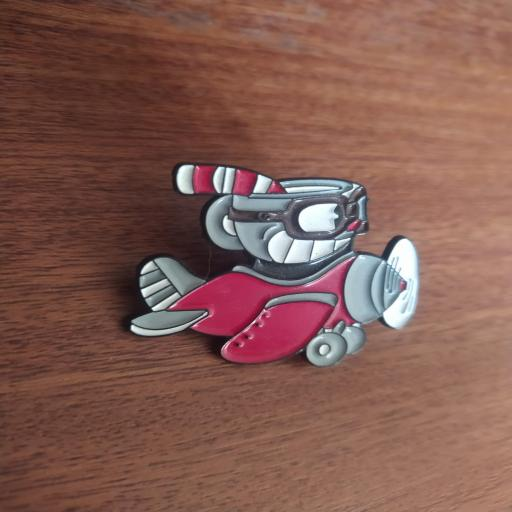Pin: (109, 151, 430, 374)
